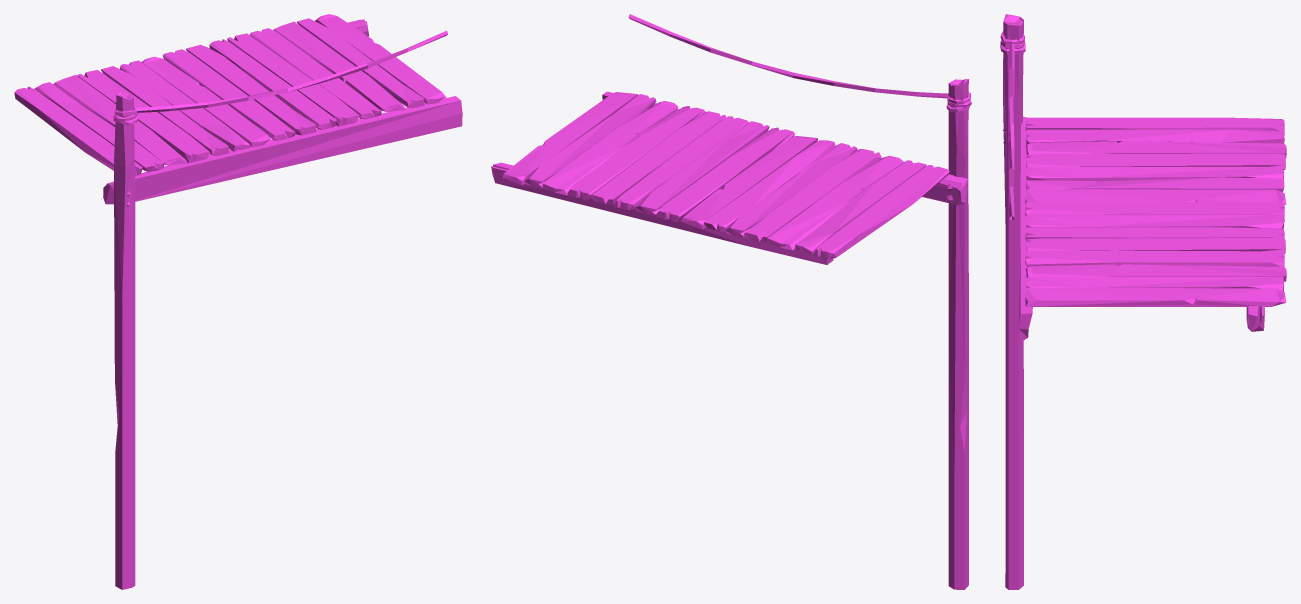
Rendered from SM_Pier_Platform_Rope_Long_A_Fantasy.fbx.
3 views of the same model, side by side, from view 1: azimuth 30°, elevation 25°; view 2: azimuth 150°, elevation 25°; view 3: azimuth 270°, elevation 25° (orthographic). The views are drawn at different scales.
Parts seen in each view (by area): view 1: SM_Pier_Platform_Rope_Long_A_Fantasy; view 2: SM_Pier_Platform_Rope_Long_A_Fantasy; view 3: SM_Pier_Platform_Rope_Long_A_Fantasy.
Boxes of the visible parts, x1,y1,x2,y2 form: SM_Pier_Platform_Rope_Long_A_Fantasy: [14, 14, 462, 589]; SM_Pier_Platform_Rope_Long_A_Fantasy: [491, 14, 971, 589]; SM_Pier_Platform_Rope_Long_A_Fantasy: [1000, 14, 1286, 589].
Size of the model in its own units: 5.55 by 7.25 by 3.31.
